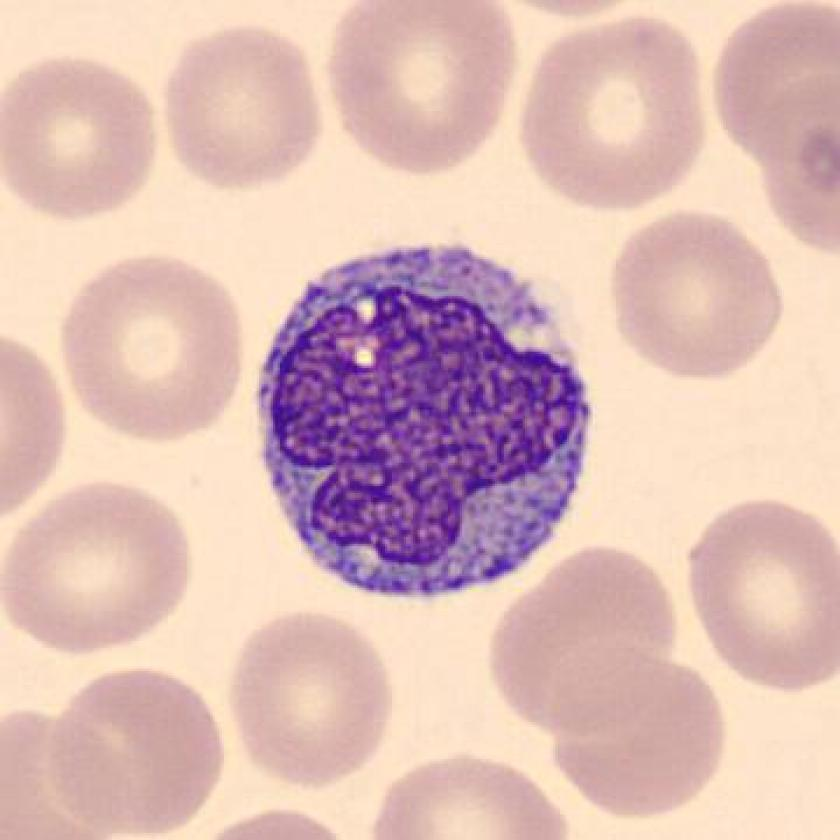monocyte: (234, 207, 608, 623)
